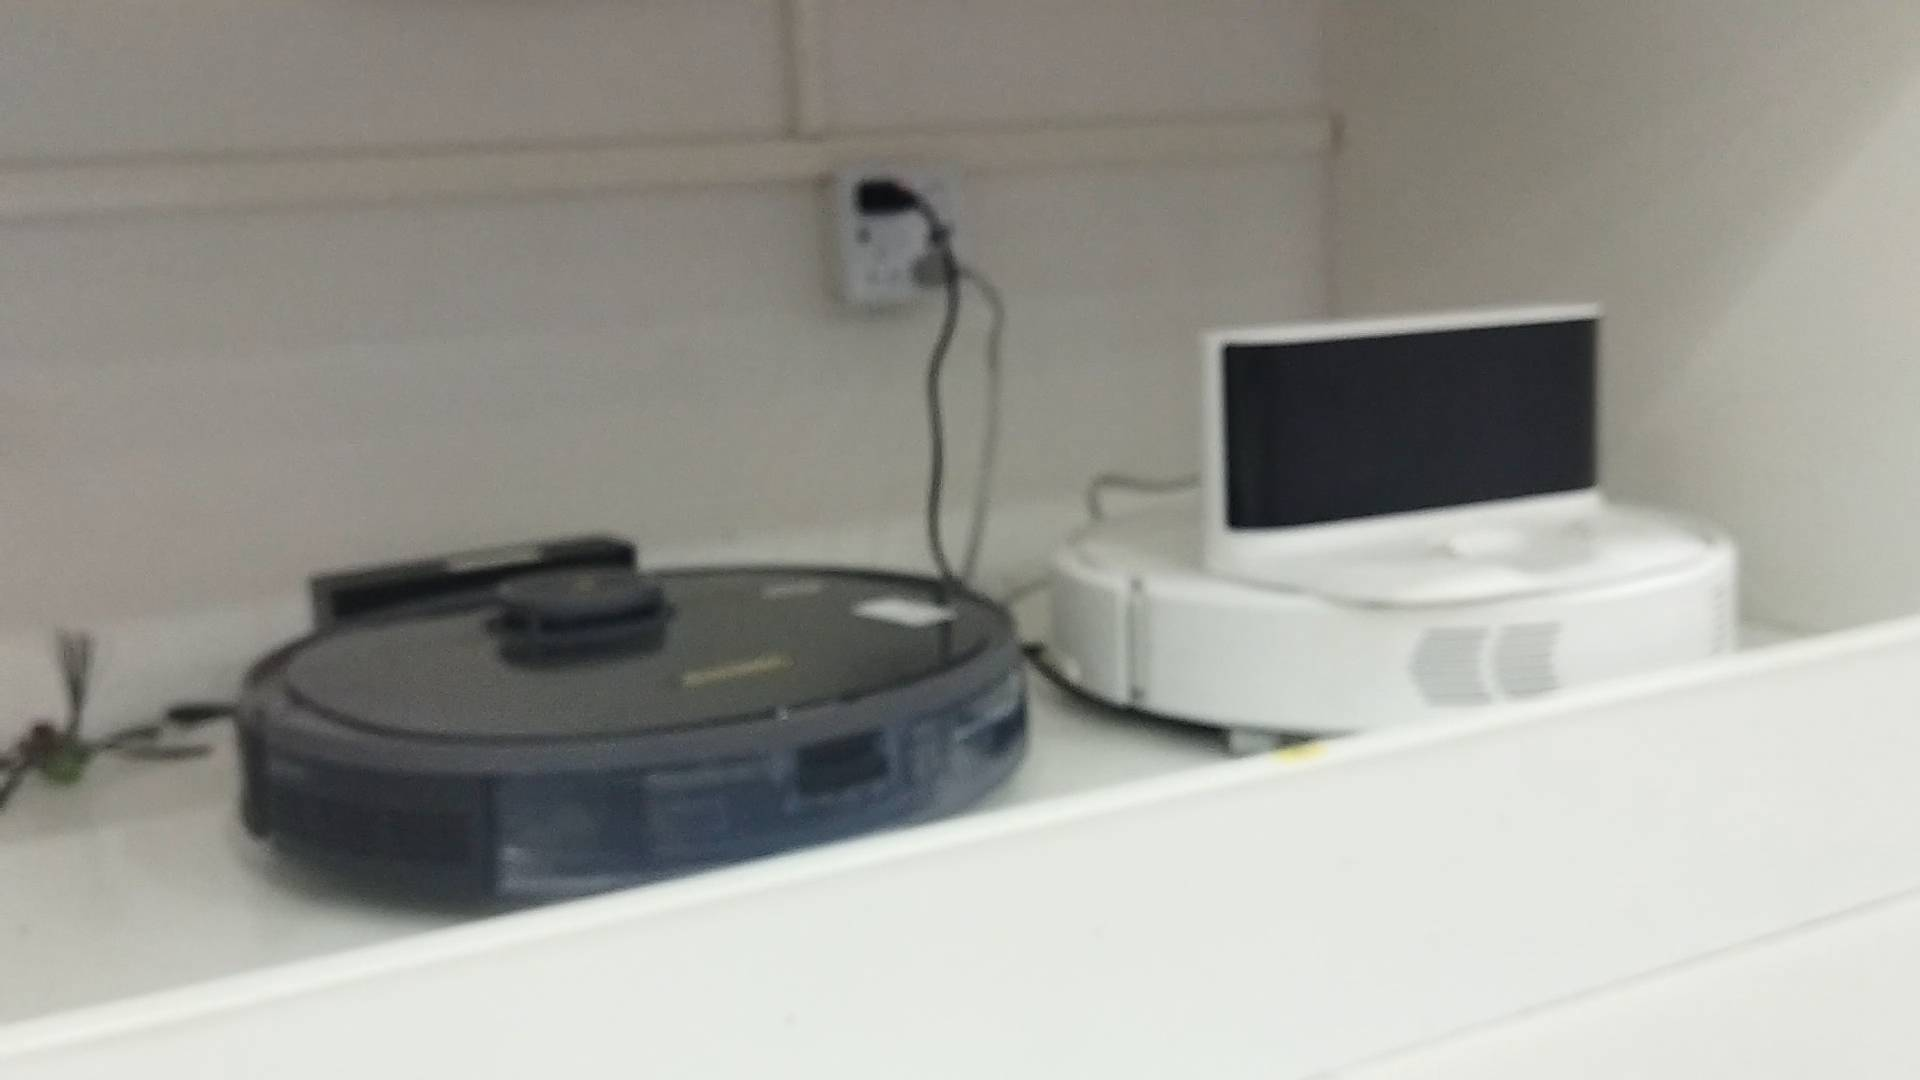recharge seat: (1197, 299, 1716, 608)
